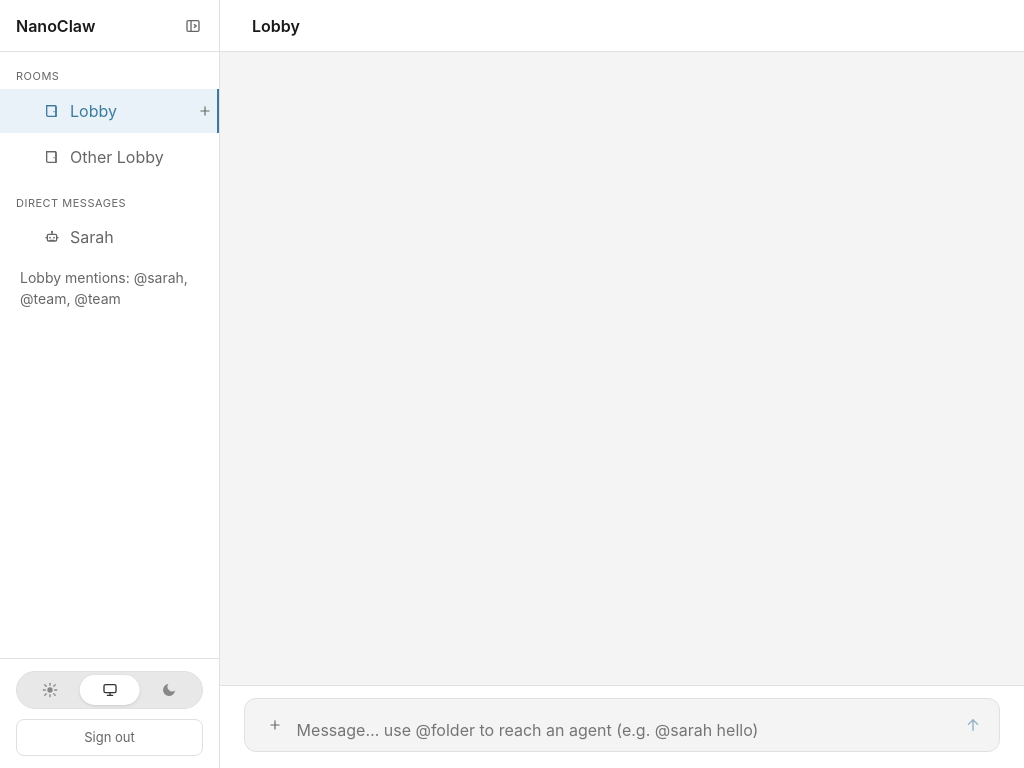
Test: App › handles non-Error send failures
This screenshot has width=1024, height=768.
expect the heading "Lobby" is shown: met, box x1=252 y1=14 x2=300 y2=38
Type "x" into the text box with placeholder "Message… use @folder to reach an agent (e.g. @sarah hello)". click: (624, 730)
box: x1=297 y1=719 x2=951 y2=741
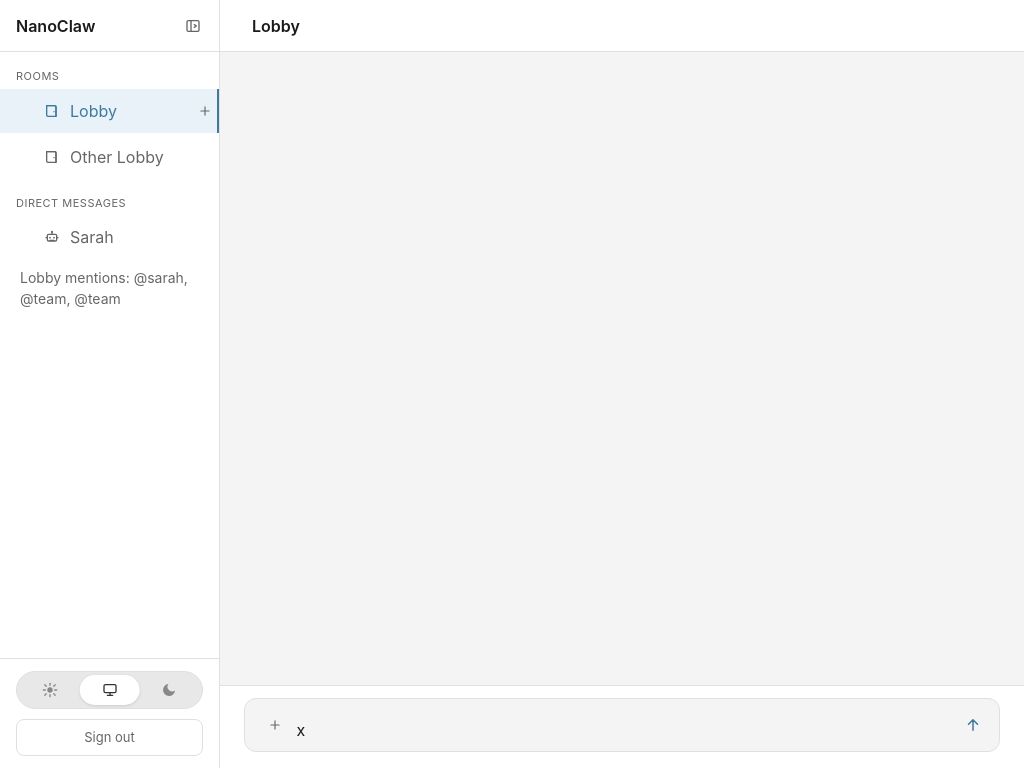
Click the button named "Send message". click: (973, 725)
box: x1=957 y1=709 x2=989 y2=741
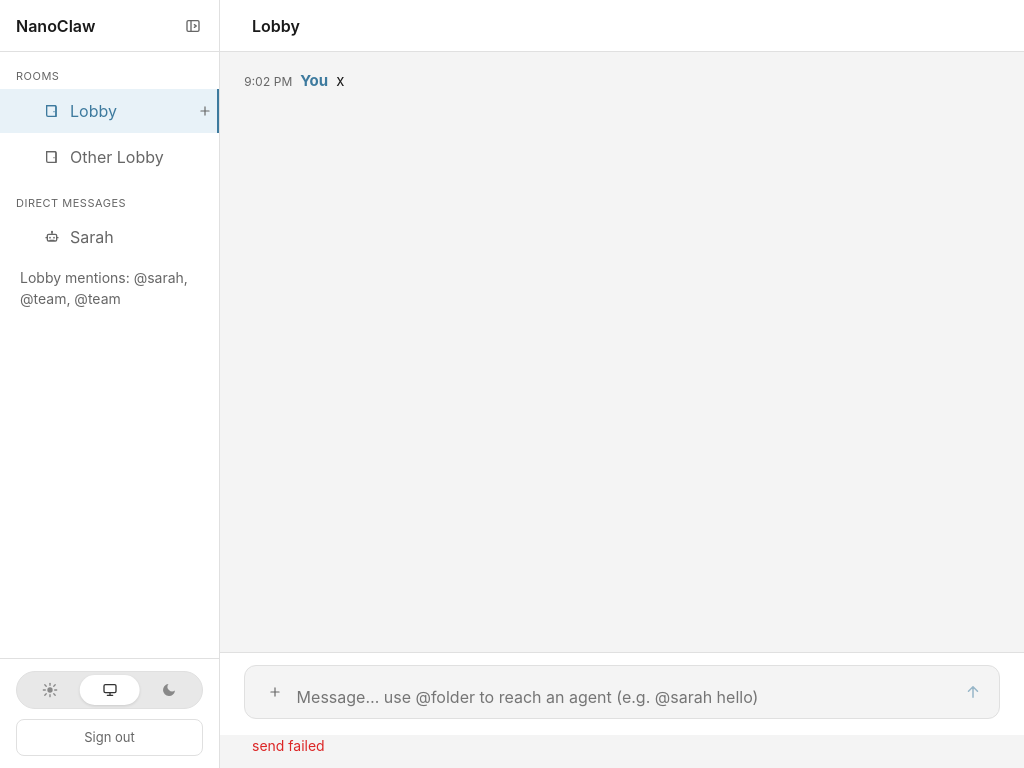
expect the text "send failed" is shown: met, box x1=252 y1=737 x2=325 y2=754
